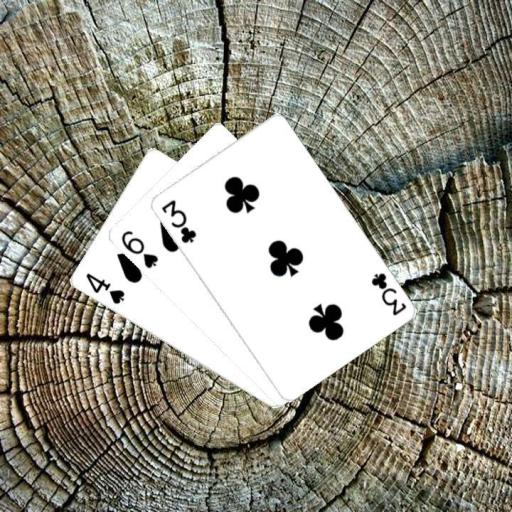3C: (157, 196, 198, 245), (367, 270, 407, 317)
4S: (82, 270, 126, 306)
6S: (118, 227, 160, 270)
